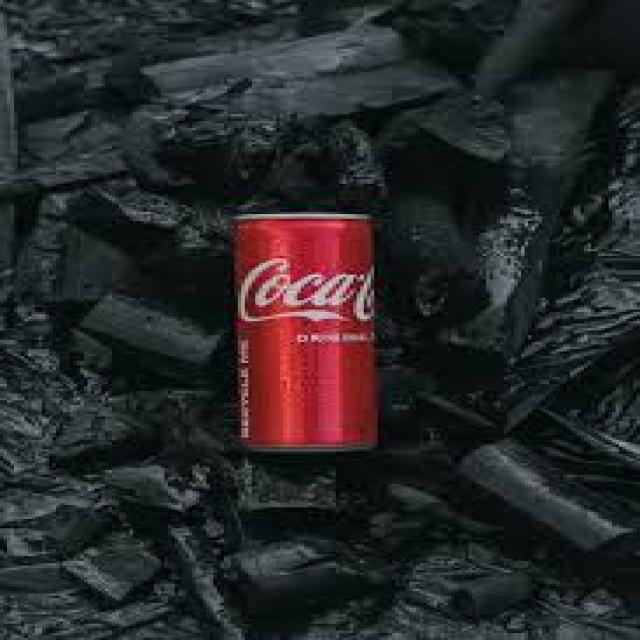Cans: (217, 205, 392, 458)
